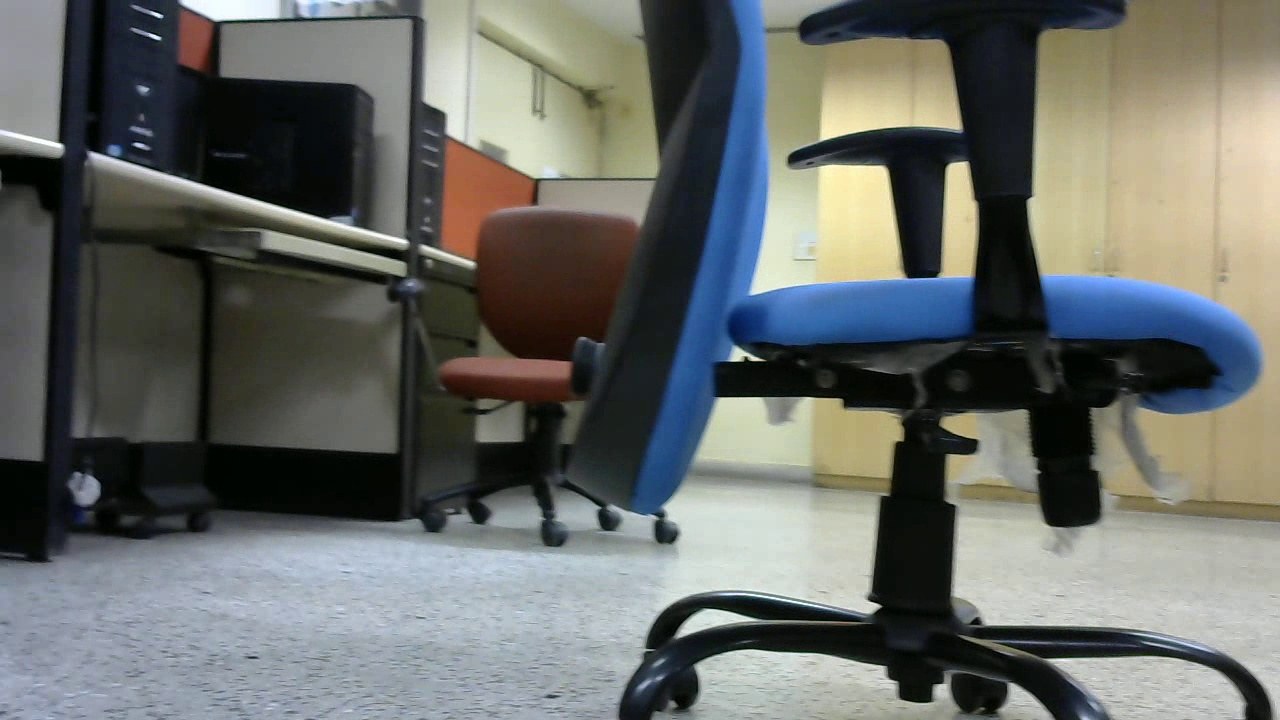chair: (574, 4, 1278, 720), (360, 207, 689, 546)
